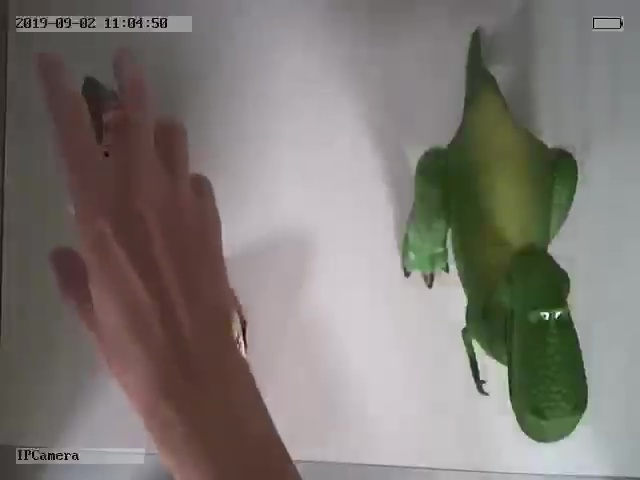rex: (402, 59, 589, 443)
